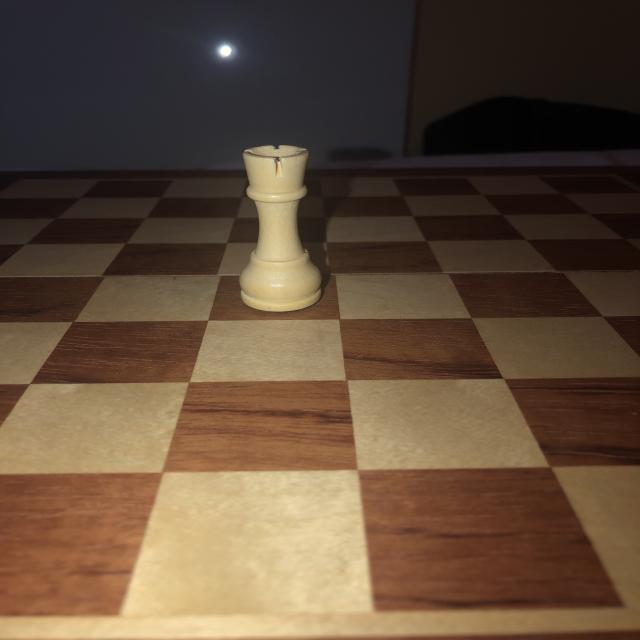white_rook: (238, 143, 326, 313)
